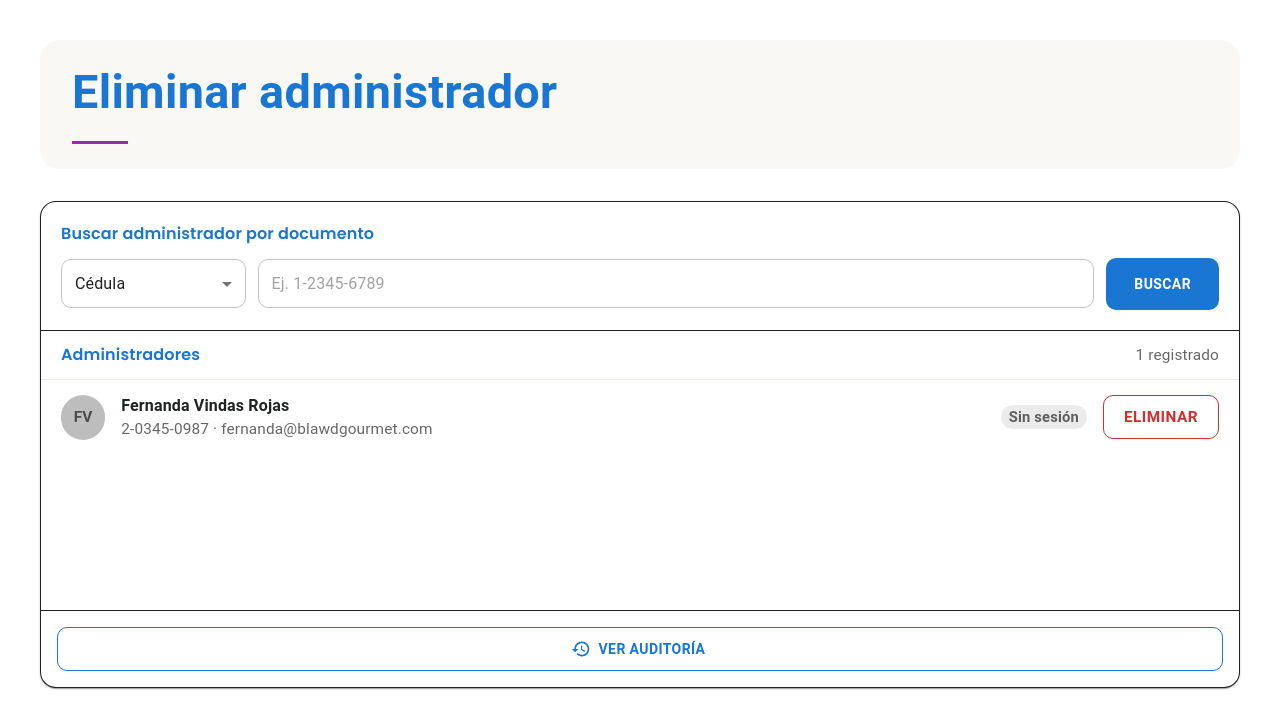
AdminManagement audit log › shows the empty-state message when there are no audit entries
Expected: the text "Fernanda Vindas Rojas" is shown, [121,396,289,415]
Click the button "Ver auditoría". click: [640, 649]
box: [57,627,1223,671]
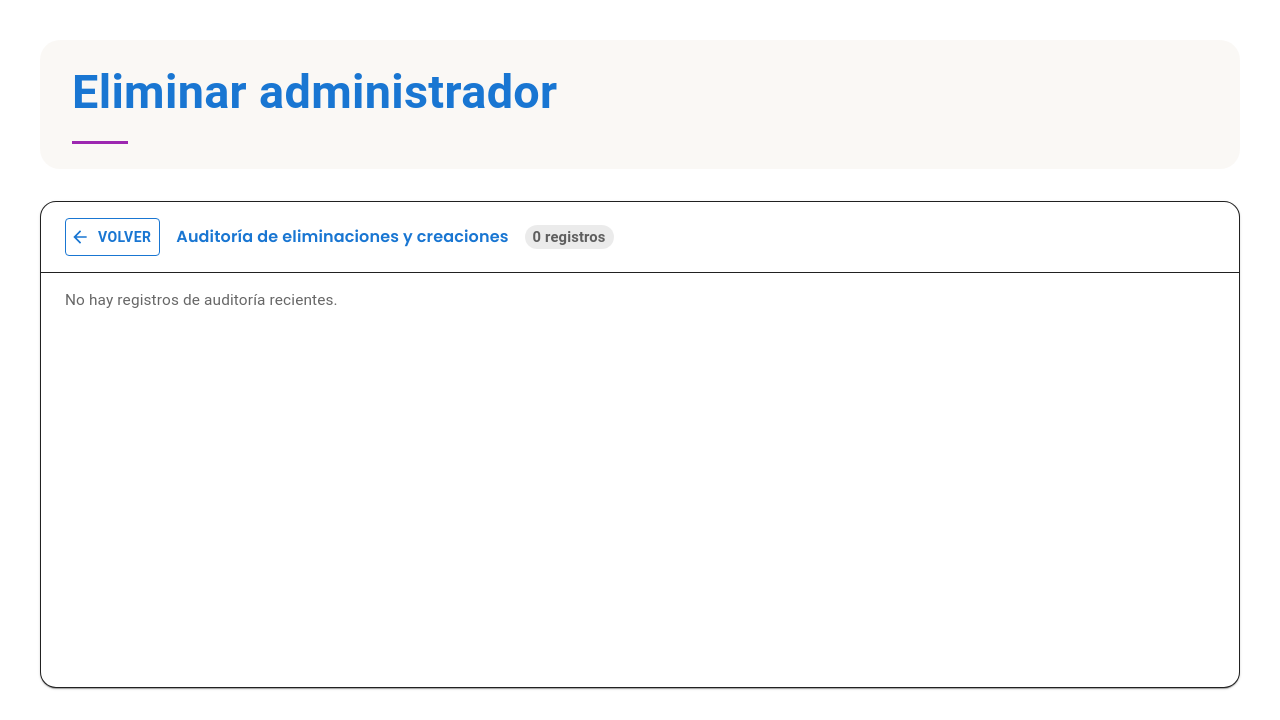
Expected: the text "No hay registros de auditoría recientes." is shown, [65,291,338,309]
